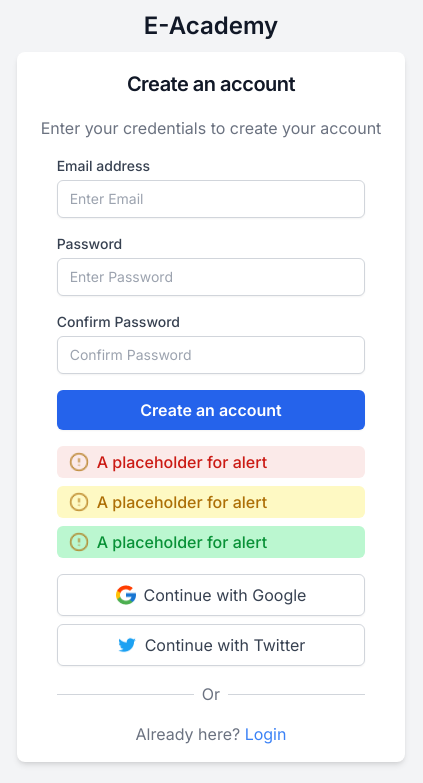
Test case: Sign Up with Feedback Section › should remove an alert when the close button is clicked
The width and height of the screenshot is (423, 783).
Click the 1st button named "alert icon". click: click(79, 462)
box: [69,452,89,472]
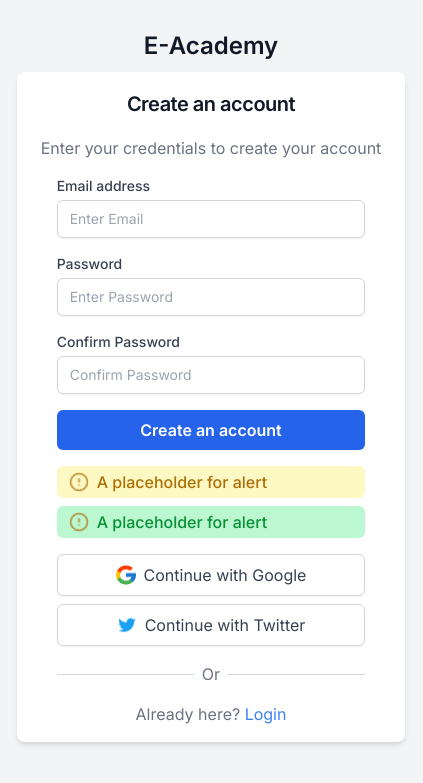
Now the text "A placeholder for alert" is shown 2 times, box [97,470,267,494]; [97,510,267,534]
